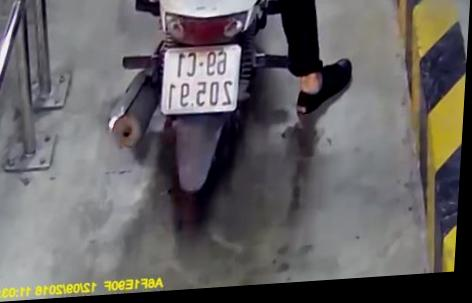License_Plate: (148, 37, 251, 123)
